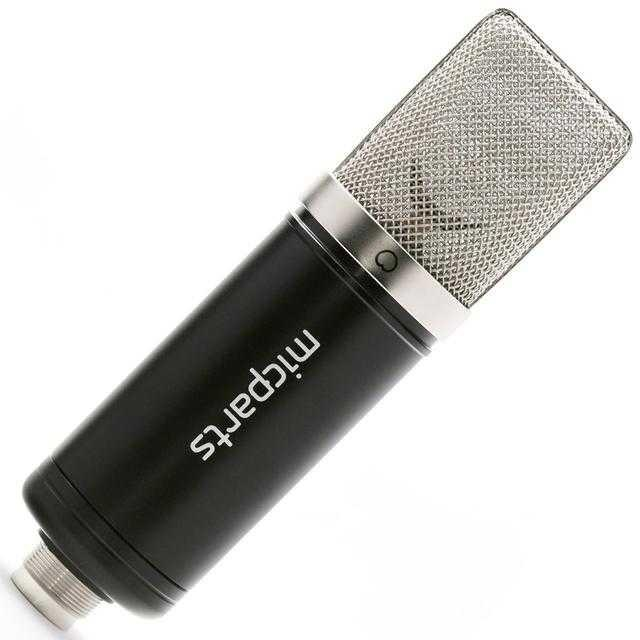microphone: (14, 10, 623, 634)
